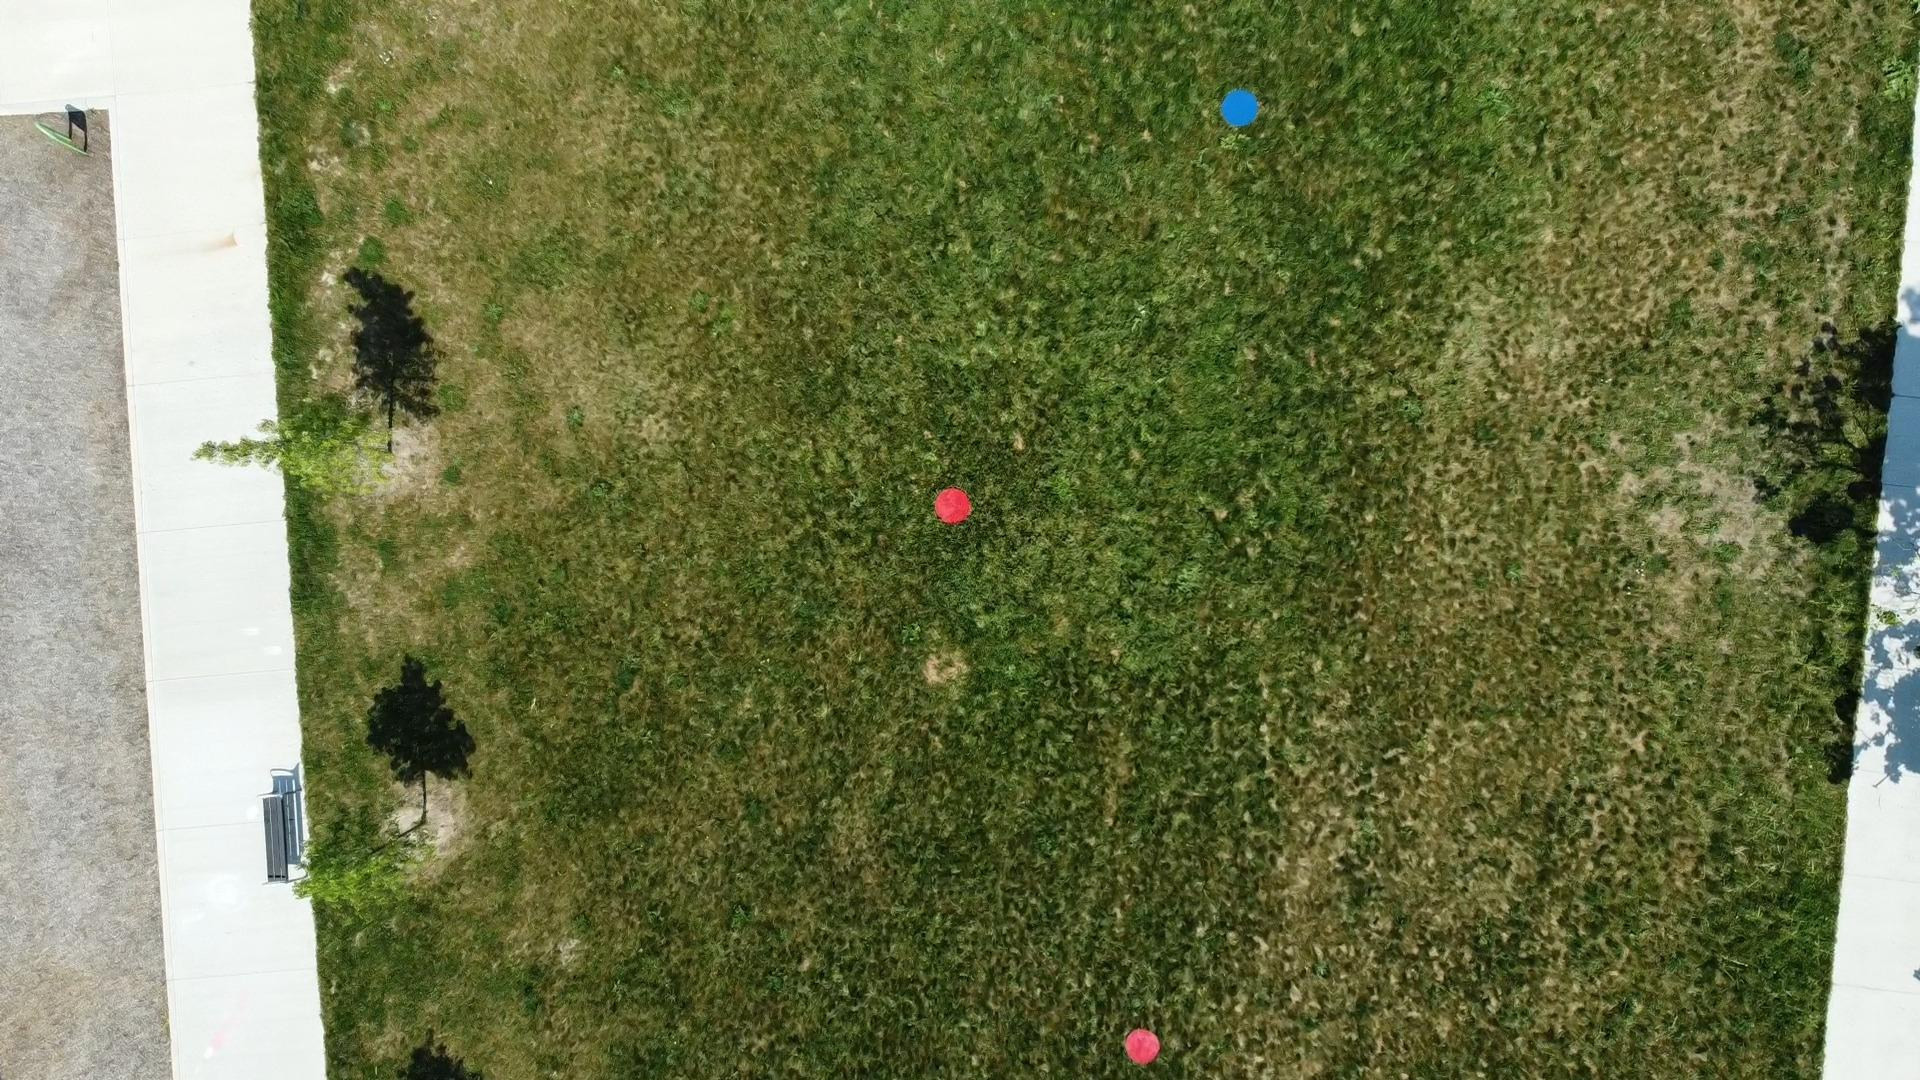Blue: (1220, 88, 1261, 128)
Red: (932, 487, 973, 525), (1124, 1026, 1162, 1067)
